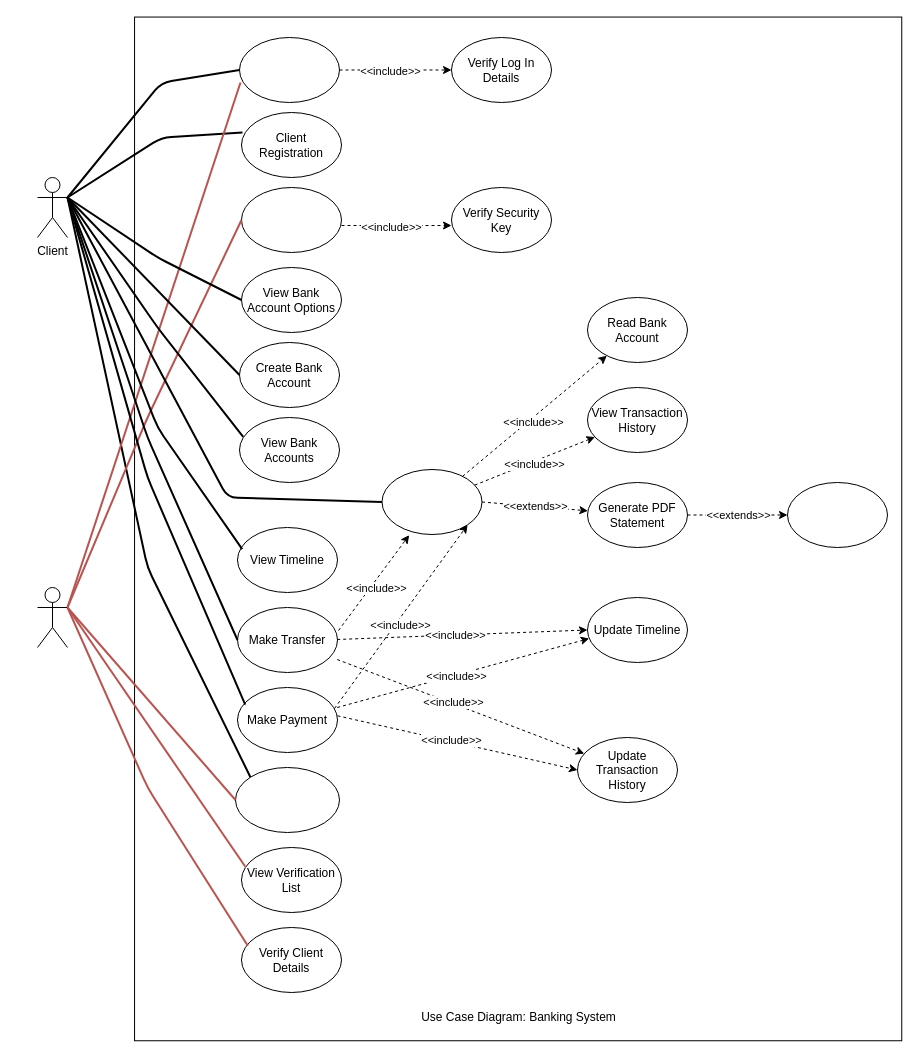
Some shapes in this 920 by 1059 pixel diagram are drawn without their labels. The centre of each missing label's shape, as x and y in pixels:
Administrator: the point at 52,617
Administrator Registration: the point at 291,219
Download PDF Statement: the point at 837,515
Log In: the point at 289,69
Read Specific Bank Account: the point at 431,501
View Client Profile: the point at 287,799
